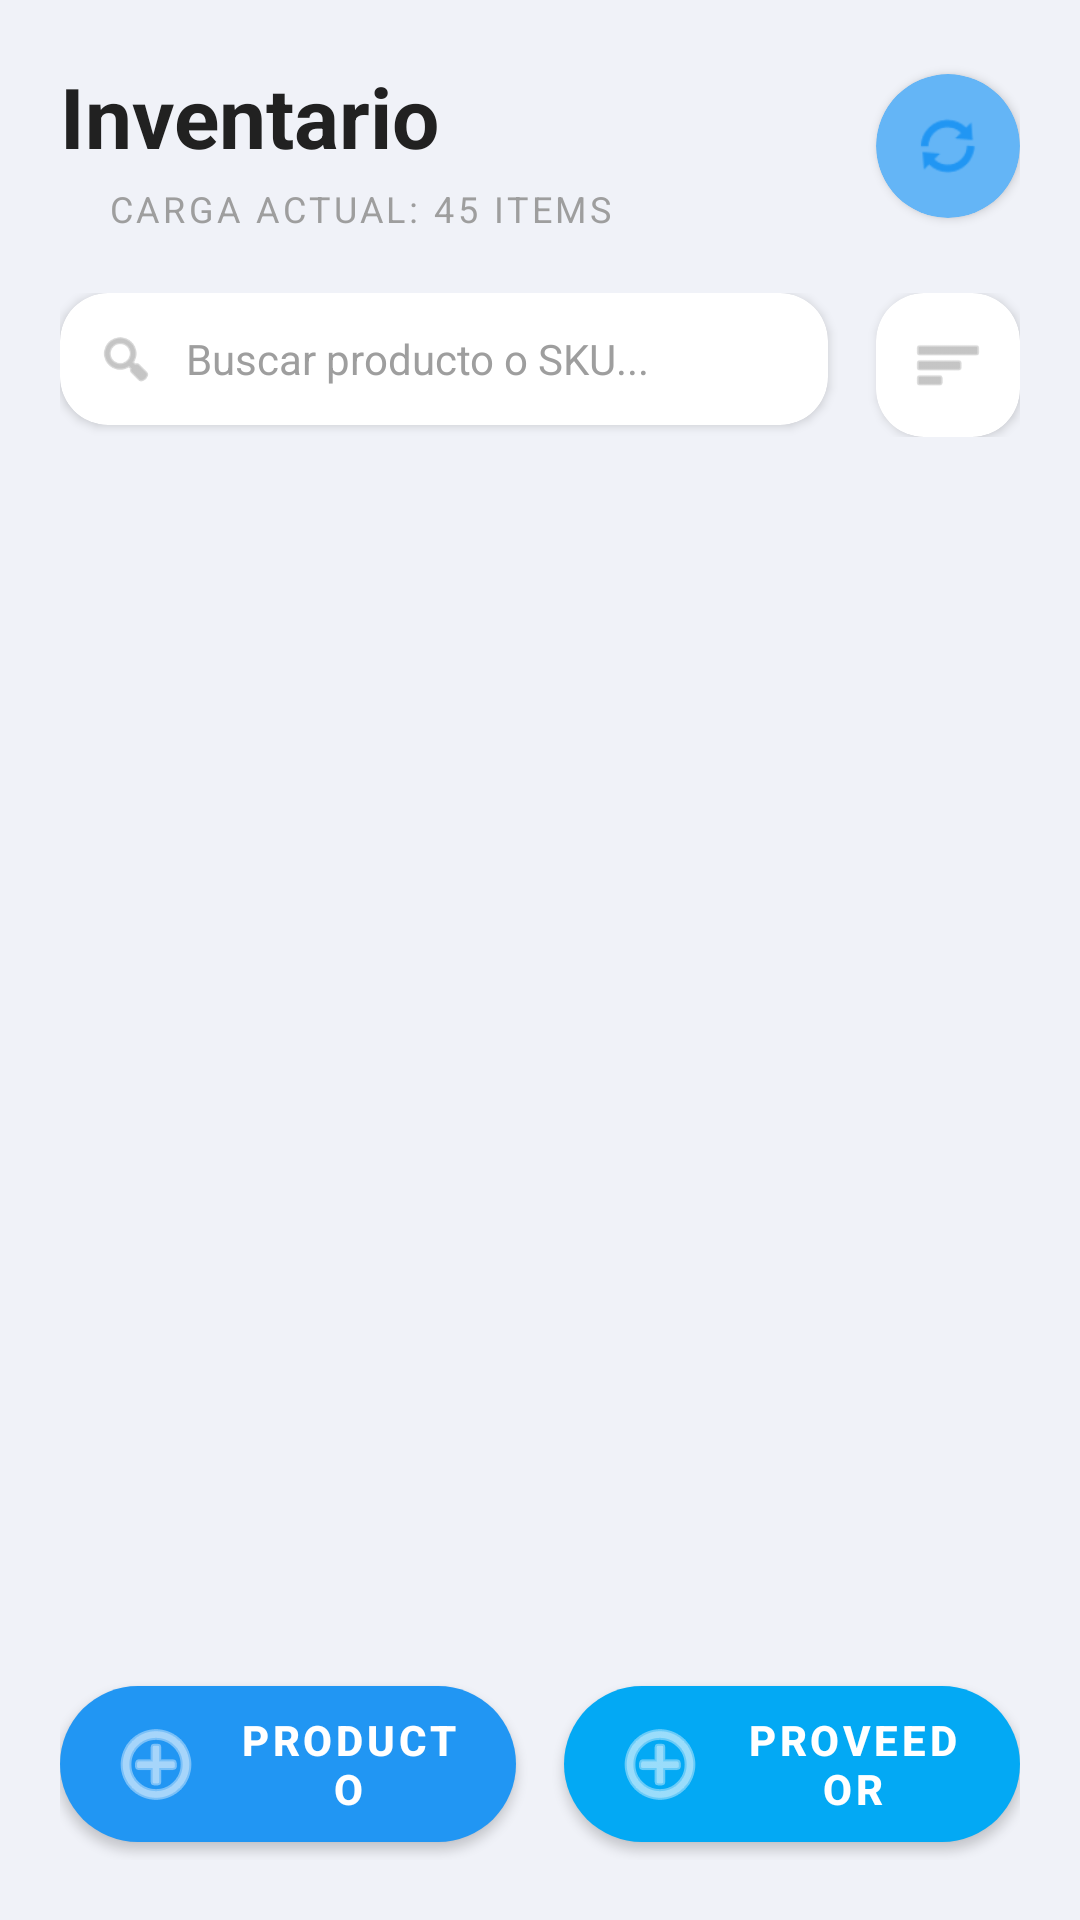

Point at icon controls on the screen. Image size 1080px x 1920px, points as [x,y].
popup sync: [948,146]
search: [126,359]
sort by size: [948,365]
